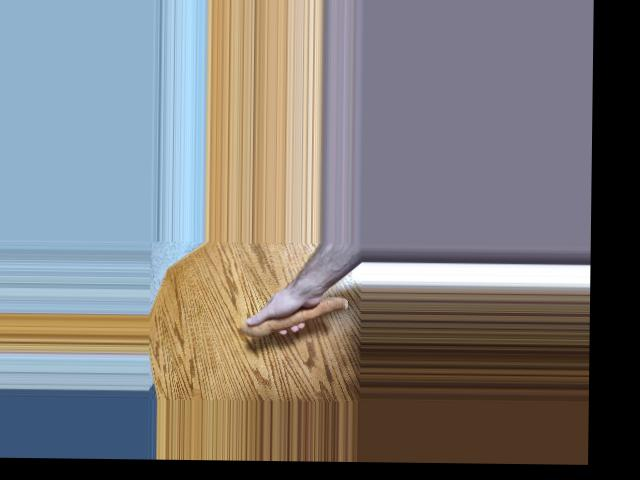sweet_potato: (241, 291, 349, 342)
